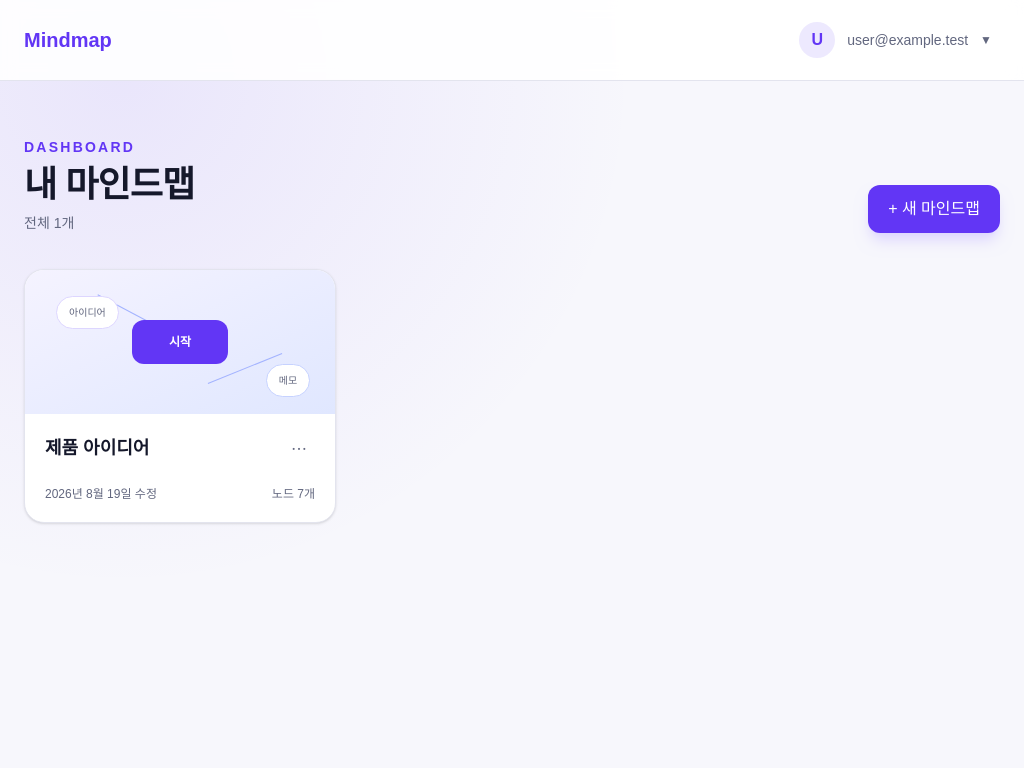
Test case: DashboardScreen › renders real summary data with rename and delete actions
Check: the link "제품 아이디어" is shown, box [45,438,149,458]
Check: the text "노드 7개" is shown, box [272,486,315,502]
Press the mouse on the button named "제품 아이디어 메뉴" at (299, 450), box [283,434,315,466]
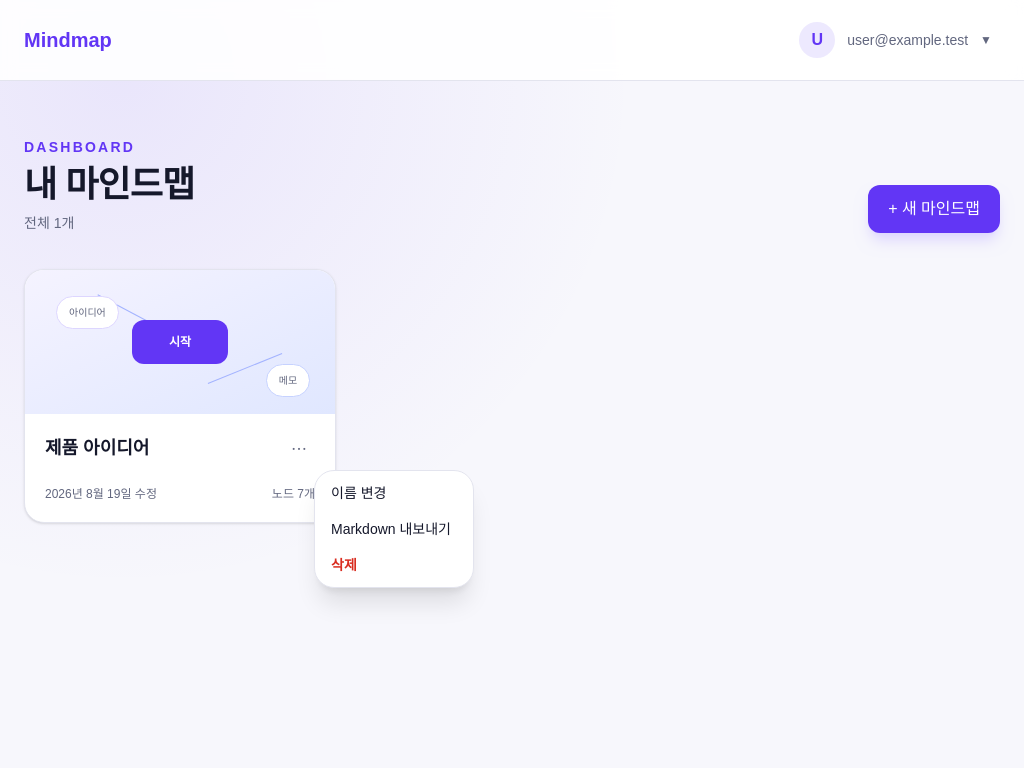
Check: the menu item "이름 변경" is shown, box [331,485,386,501]
Check: the menu item "Markdown 내보내기" is shown, box [331,521,451,537]
Check: the menu item "삭제" is shown, box [331,557,357,573]
